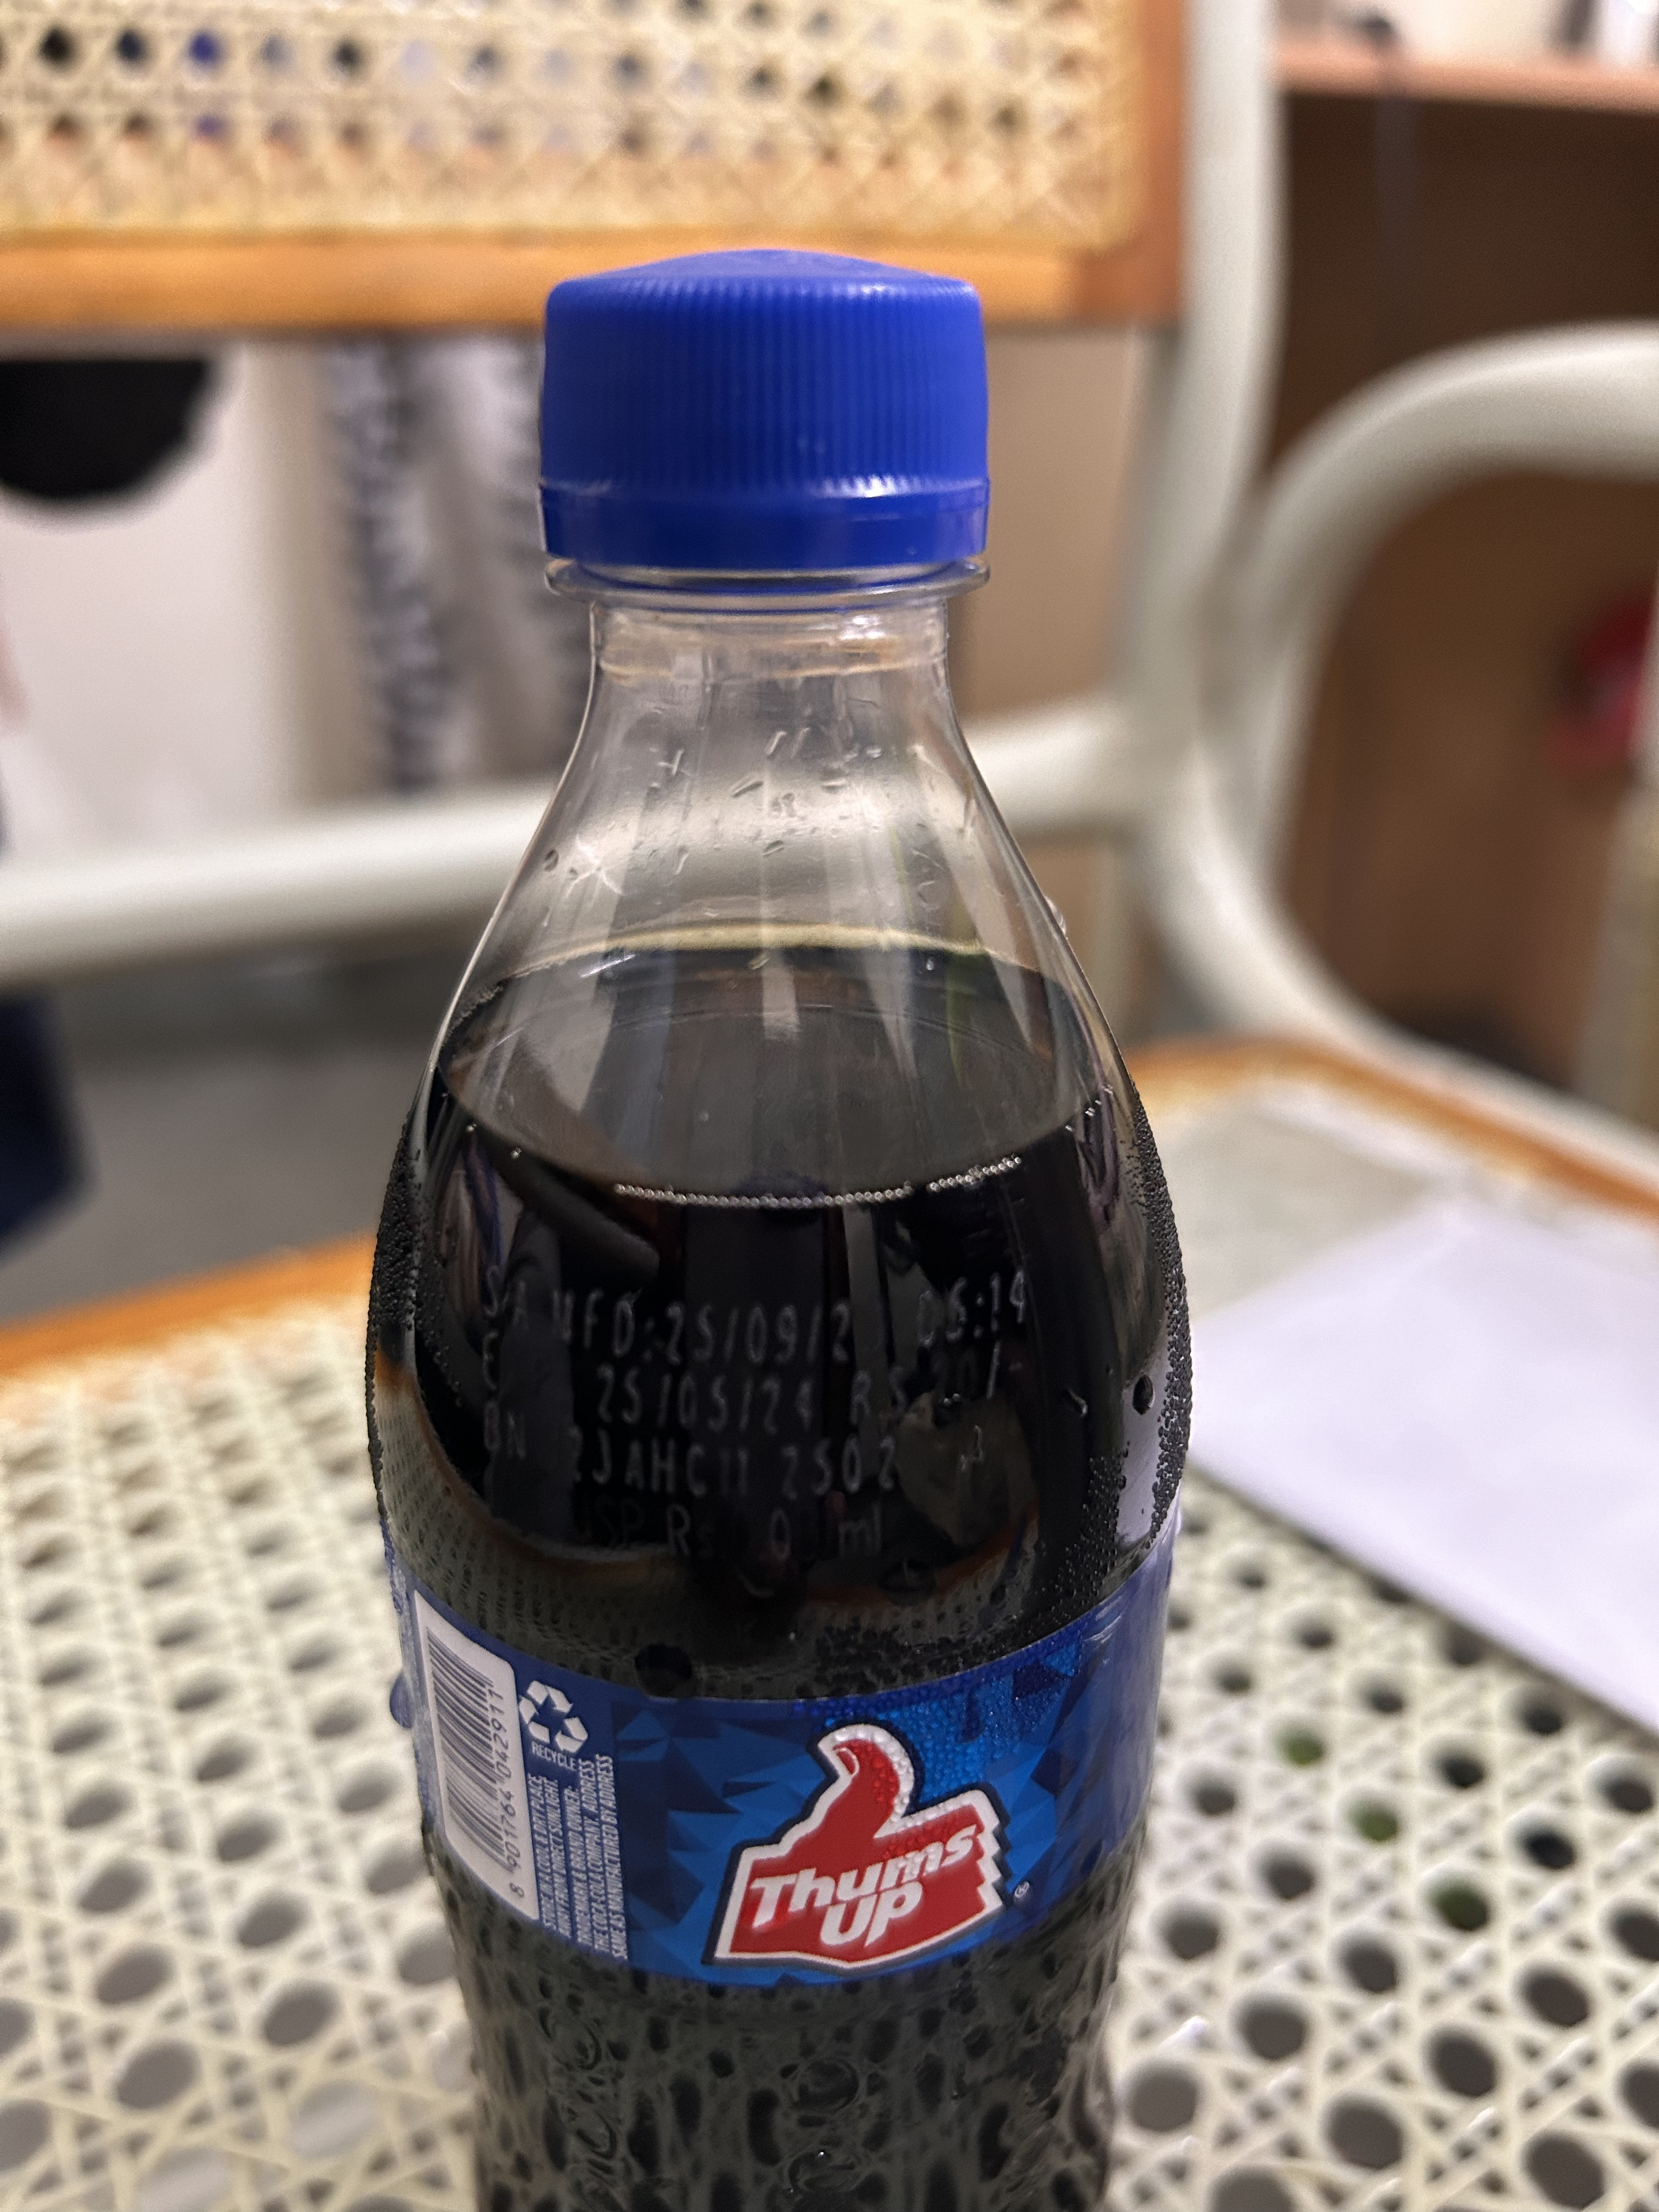sealstable: (516, 157, 1068, 723)
